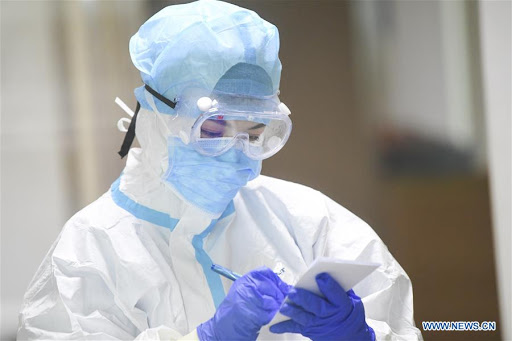Coverall: (22, 1, 401, 341)
Gloves: (276, 267, 380, 341), (184, 268, 285, 341)
Goggles: (182, 98, 295, 163)
with_mask: (168, 111, 278, 210)
